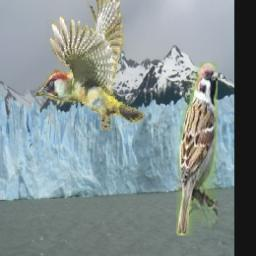Sparrow: (176, 62, 218, 235)
Woodpecker: (34, 0, 146, 130)
